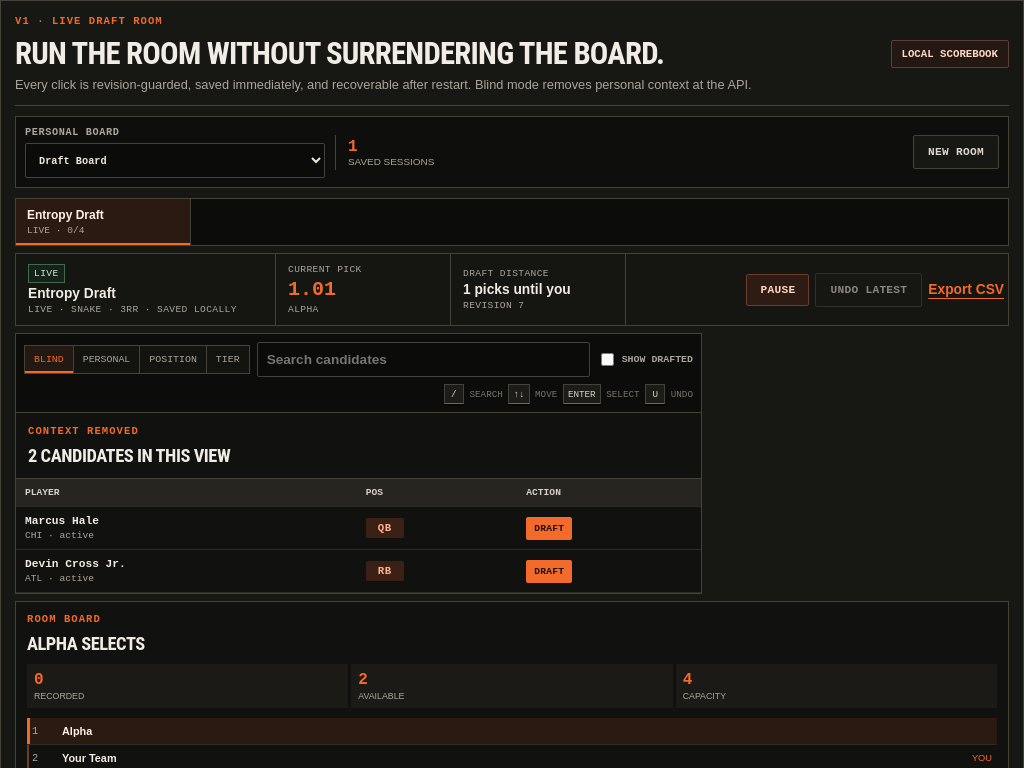
it: DraftWorkspace › refreshes server state after a stale rejection without optimistic loss
Step 1. Click the button "Draft" in the row of "Marcus Hale" → (549, 528), box [526, 516, 572, 540]
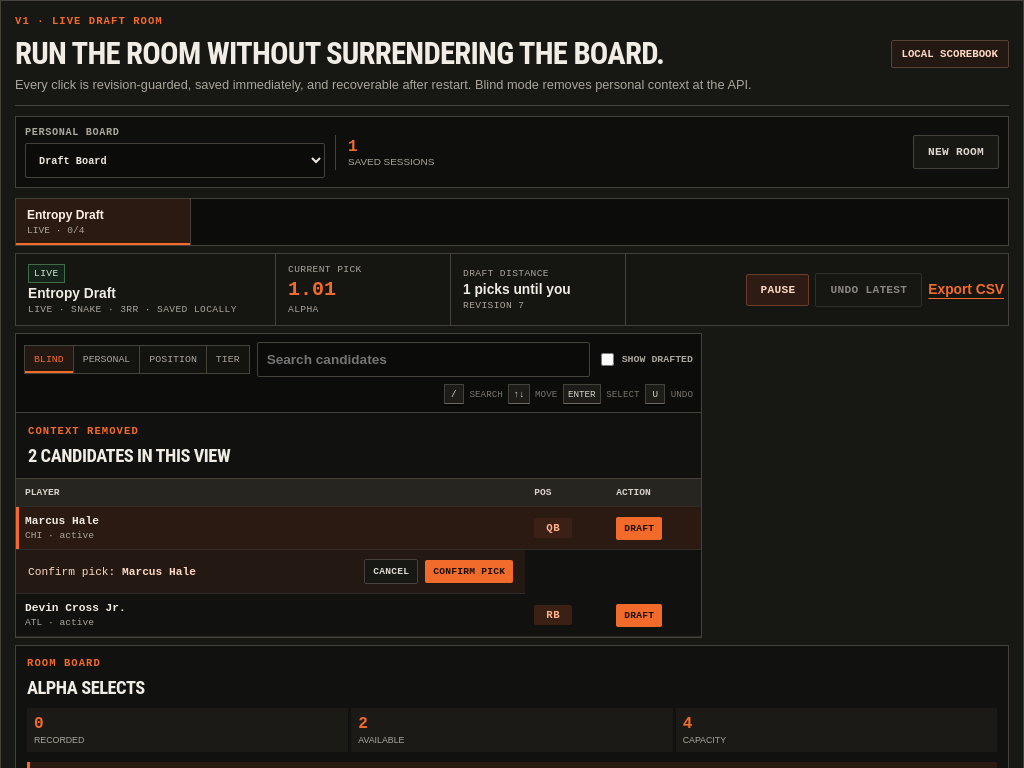
Step 2. Click the button "Confirm pick" → (469, 572), box [425, 560, 513, 583]
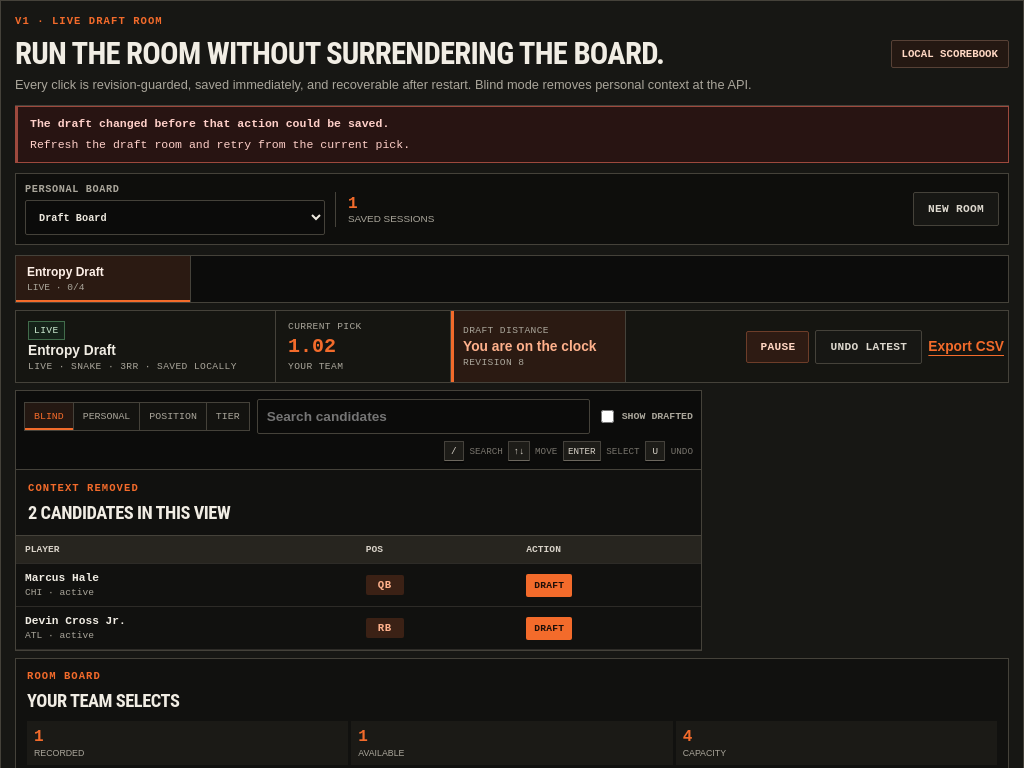
Expected: the text "Marcus Hale" is shown, [25, 572, 99, 584]
Result: the text "The draft changed before that action could be saved." is shown at [30, 117, 389, 130]
Result: the text "You are on the clock" is shown at [463, 339, 613, 354]
